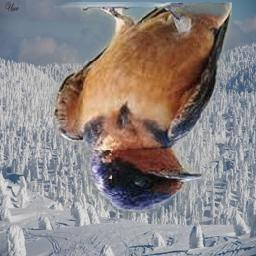Swallow: (54, 3, 233, 214)
